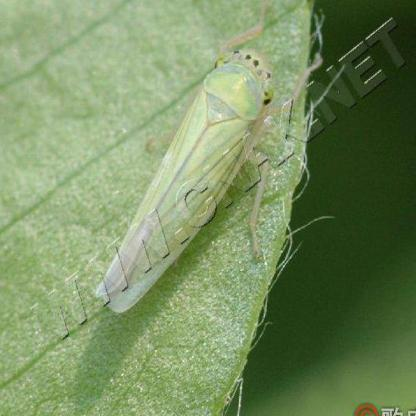Green-Leafhopper: (99, 50, 274, 325)
